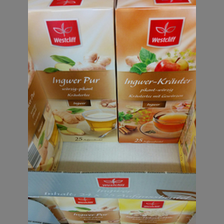tea: (28, 1, 117, 142), (114, 1, 196, 142)
